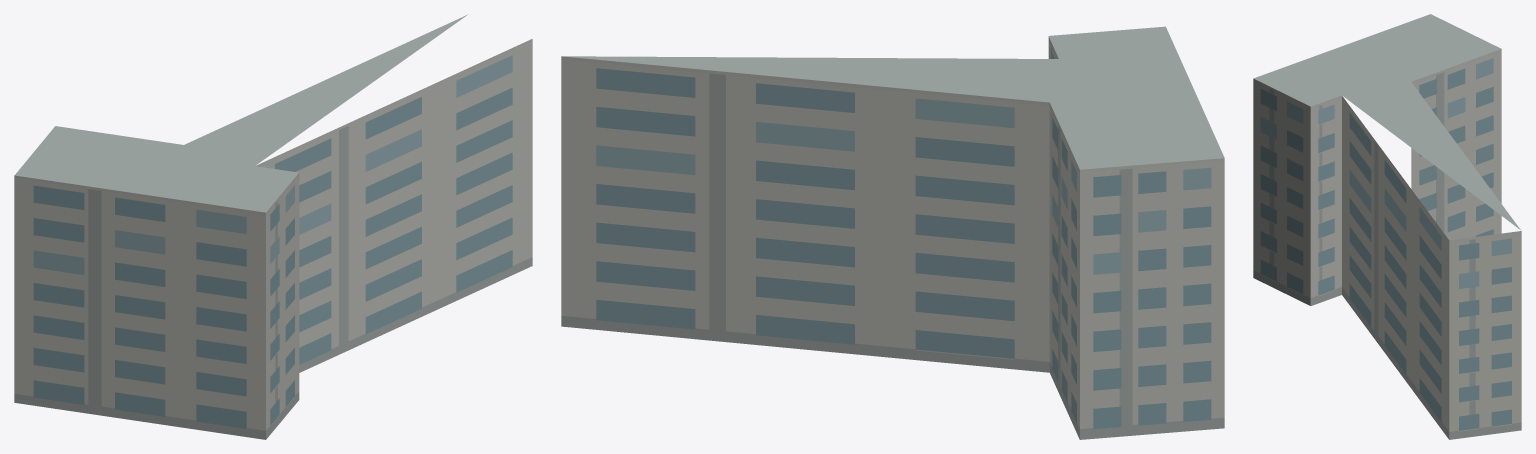
The model's file is residential-5fa02b61-7841-4682-bac6-c760a571057b.glb.
The picture shows the model from 3 angles, left to right: view 1: azimuth 30°, elevation 25°; view 2: azimuth 150°, elevation 25°; view 3: azimuth 270°, elevation 25°; orthographic projection. The views are drawn at different scales.
Parts seen in each view (by area): view 1: residential-5fa02b61-7841-4682-bac6-c760a571057b.tmp; view 2: residential-5fa02b61-7841-4682-bac6-c760a571057b.tmp; view 3: residential-5fa02b61-7841-4682-bac6-c760a571057b.tmp.
Part boxes in pixels (bbox=[...]): residential-5fa02b61-7841-4682-bac6-c760a571057b.tmp: bbox=[14, 14, 532, 439]; residential-5fa02b61-7841-4682-bac6-c760a571057b.tmp: bbox=[561, 26, 1224, 439]; residential-5fa02b61-7841-4682-bac6-c760a571057b.tmp: bbox=[1253, 14, 1521, 439].
Size of the model in its own units: 51.13 by 21 by 25.59.
